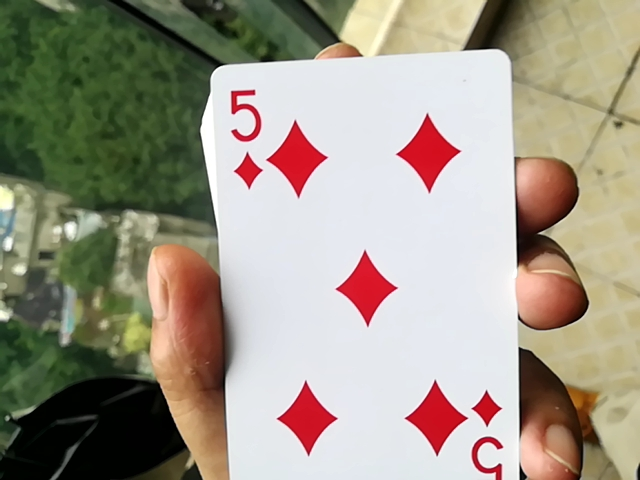fk 5: (180, 51, 534, 480)
